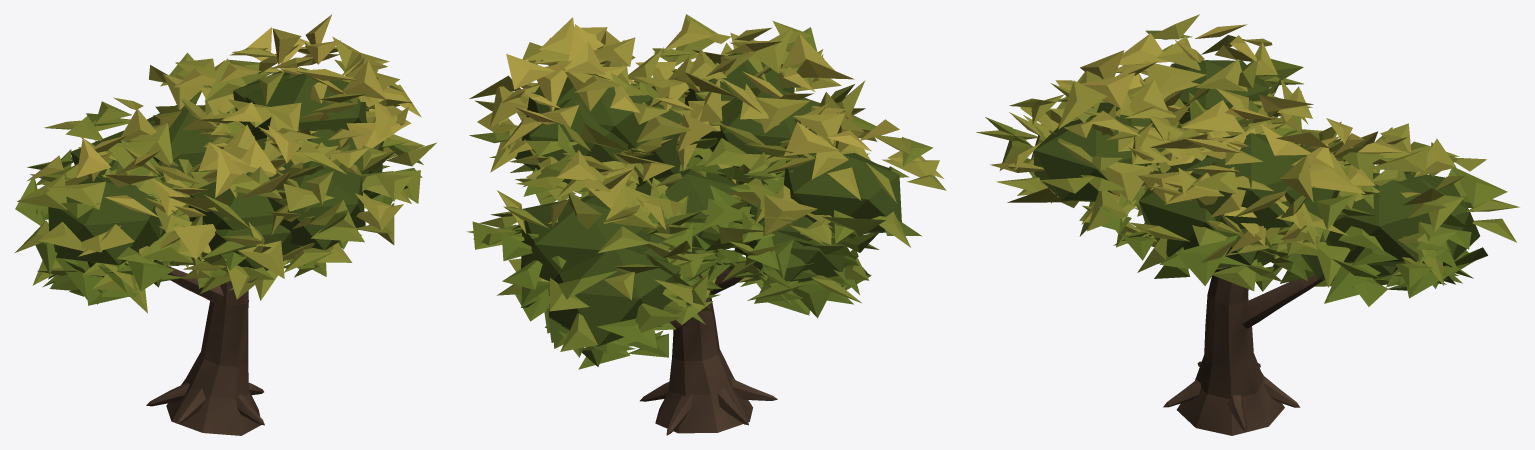
File: oak_2.glb
The picture shows the model from 3 angles, left to right: view 1: azimuth 30°, elevation 25°; view 2: azimuth 150°, elevation 25°; view 3: azimuth 270°, elevation 25°; orthographic projection. The views are drawn at different scales.
Parts seen in each view (by area): view 1: oak_2; view 2: oak_2; view 3: oak_2.
Part boxes in pixels (box(x1,y1,x2,y2)): oak_2: box(15, 14, 436, 435); oak_2: box(466, 14, 946, 435); oak_2: box(976, 14, 1519, 435).
Size of the model in its own units: 13.6 by 11.35 by 15.16.
